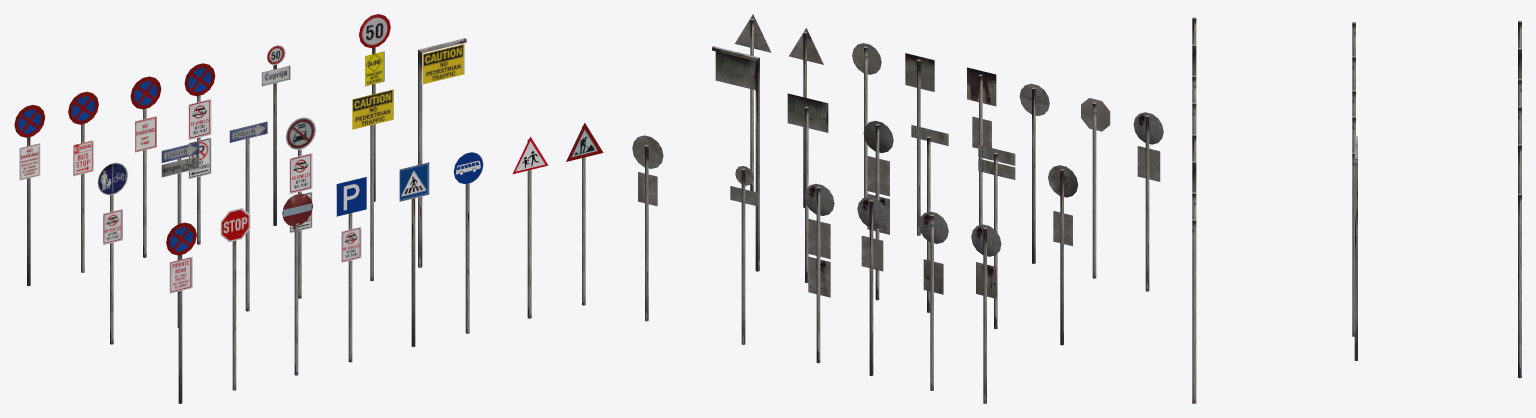
Rendered from tsign.FBX.
The picture shows the model from 3 angles, left to right: view 1: azimuth 30°, elevation 25°; view 2: azimuth 150°, elevation 25°; view 3: azimuth 270°, elevation 25°; orthographic projection. The views are drawn at different scales.
Parts seen in each view (by area): view 1: trafsign05, trafsign41, Plane03, trafsign36, trafsign00, trafsign01, trafsign38, trafsign34, trafsign31, trafsign03, trafsign16, trafsign25 (+28 smaller); view 2: Plane03, trafsign43, trafsign75, trafsign70, trafsign63, trafsign64, Cylinder13, Cylinder12, Cylinder11, Cylinder02, Cylinder01, trafsign68 (+36 smaller); view 3: Cylinder06, Plane03, Cylinder14, Cylinder19.
Part boxes in pixels (x1=…): trafsign05: x1=423, y1=44, x2=464, y2=84; trafsign41: x1=352, y1=89, x2=393, y2=129; Plane03: x1=418, y1=38, x2=466, y2=267; trafsign36: x1=161, y1=141, x2=199, y2=177; trafsign00: x1=399, y1=162, x2=429, y2=201; trafsign01: x1=337, y1=177, x2=366, y2=216; trafsign38: x1=289, y1=153, x2=312, y2=194; trafsign34: x1=188, y1=99, x2=211, y2=139; trafsign31: x1=359, y1=14, x2=390, y2=48; trafsign03: x1=220, y1=208, x2=250, y2=242; trafsign16: x1=282, y1=193, x2=312, y2=226; trafsign25: x1=14, y1=104, x2=45, y2=137; Plane03: x1=712, y1=46, x2=759, y2=271; trafsign43: x1=715, y1=51, x2=755, y2=90; trafsign75: x1=787, y1=93, x2=828, y2=132; trafsign70: x1=978, y1=145, x2=1015, y2=179; trafsign63: x1=905, y1=53, x2=934, y2=91; trafsign64: x1=967, y1=67, x2=996, y2=106; Cylinder13: x1=741, y1=168, x2=745, y2=344; Cylinder12: x1=816, y1=186, x2=820, y2=363; Cylinder11: x1=869, y1=199, x2=873, y2=375; Cylinder02: x1=1092, y1=102, x2=1096, y2=278; Cylinder01: x1=1145, y1=115, x2=1149, y2=291; trafsign68: x1=632, y1=135, x2=663, y2=168; Cylinder06: x1=1192, y1=219, x2=1196, y2=403; Plane03: x1=1354, y1=136, x2=1357, y2=360; Cylinder14: x1=1518, y1=193, x2=1521, y2=378; Cylinder19: x1=1352, y1=152, x2=1354, y2=336.
Size of what is drawn, in the model's own units: 631 by 300 by 401.
